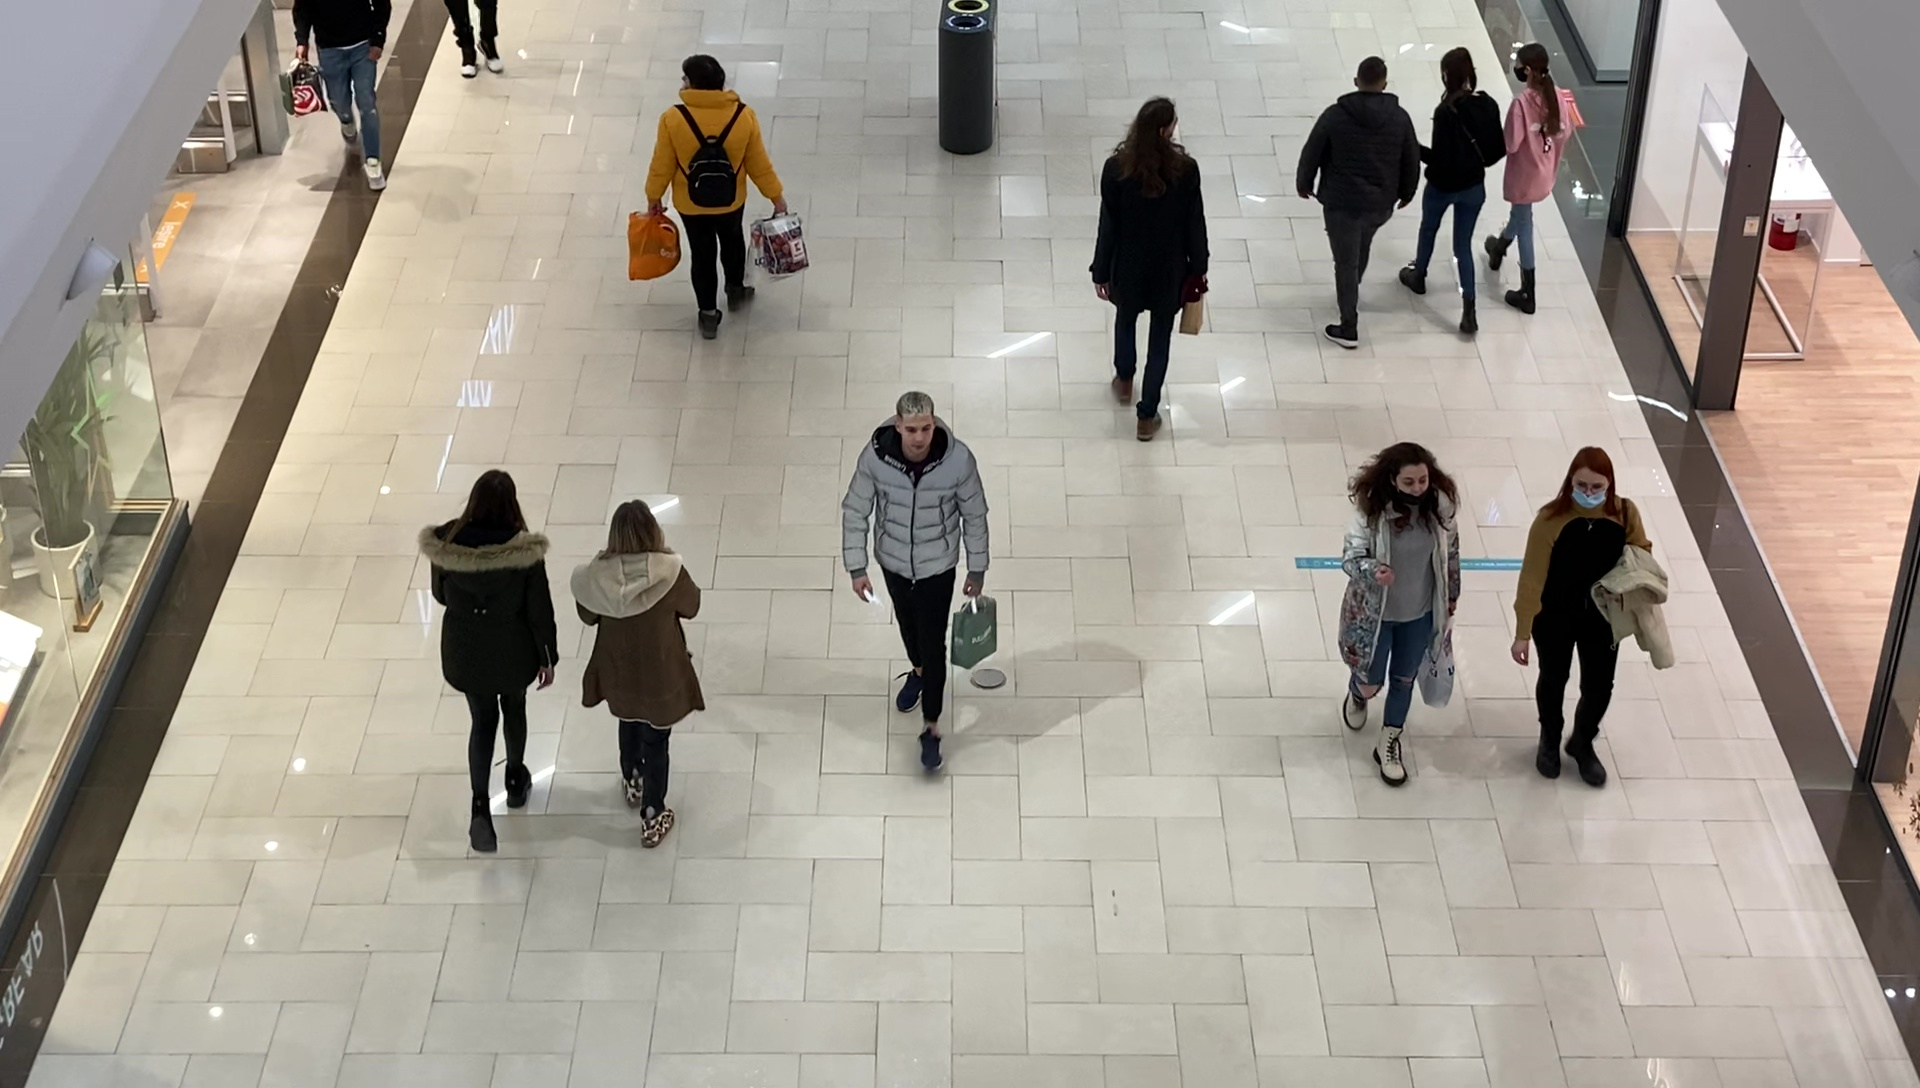person: (840, 393, 991, 773), (1512, 447, 1675, 795), (418, 466, 559, 853), (570, 499, 705, 850), (1338, 441, 1460, 789), (1089, 96, 1210, 441), (647, 55, 787, 340), (1298, 57, 1418, 353), (1416, 47, 1506, 337), (290, 1, 395, 193), (1506, 43, 1566, 314)
